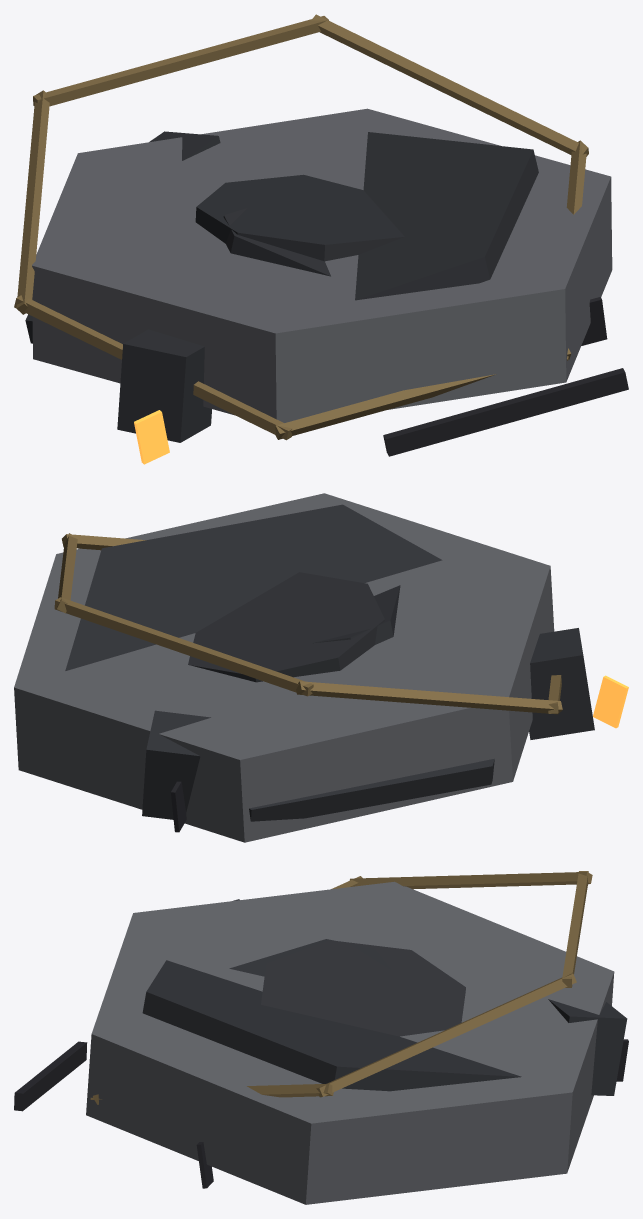
Rendered from Wreck_Aegis_ArcTurret.fbx.
The picture shows the model from 3 angles, top to bottom: view 1: azimuth 30°, elevation 25°; view 2: azimuth 150°, elevation 25°; view 3: azimuth 270°, elevation 25°; orthographic projection. The views are drawn at different scales.
Parts seen in each view (by area): view 1: Wreck_Aegis_ArcTurret; view 2: Wreck_Aegis_ArcTurret; view 3: Wreck_Aegis_ArcTurret.
Part boxes in pixels (<box>): Wreck_Aegis_ArcTurret: <box>14,14,628,464</box>; Wreck_Aegis_ArcTurret: <box>14,493,628,842</box>; Wreck_Aegis_ArcTurret: <box>14,871,628,1204</box>.
Size of the model in its own units: 1.31 by 0.4464 by 1.35.
